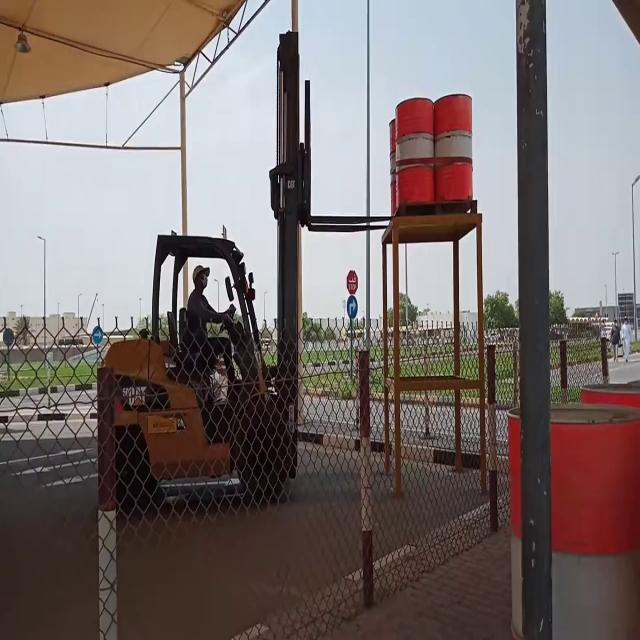Chariot elevateur: (92, 222, 304, 521)
